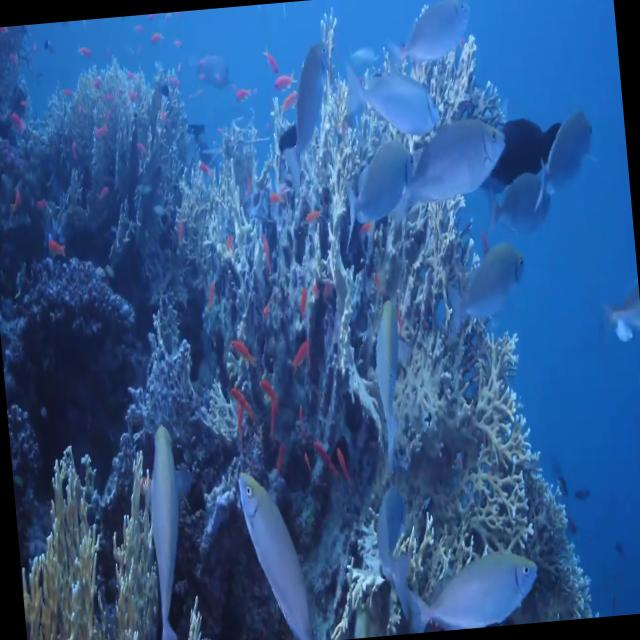fish: (217, 452, 322, 640), (121, 414, 205, 640), (398, 530, 542, 634), (266, 35, 346, 192), (404, 106, 510, 214), (340, 54, 446, 150), (366, 266, 415, 454), (431, 240, 534, 328), (392, 0, 482, 91), (491, 96, 564, 182), (540, 102, 604, 198), (364, 467, 412, 593), (481, 169, 561, 244)
